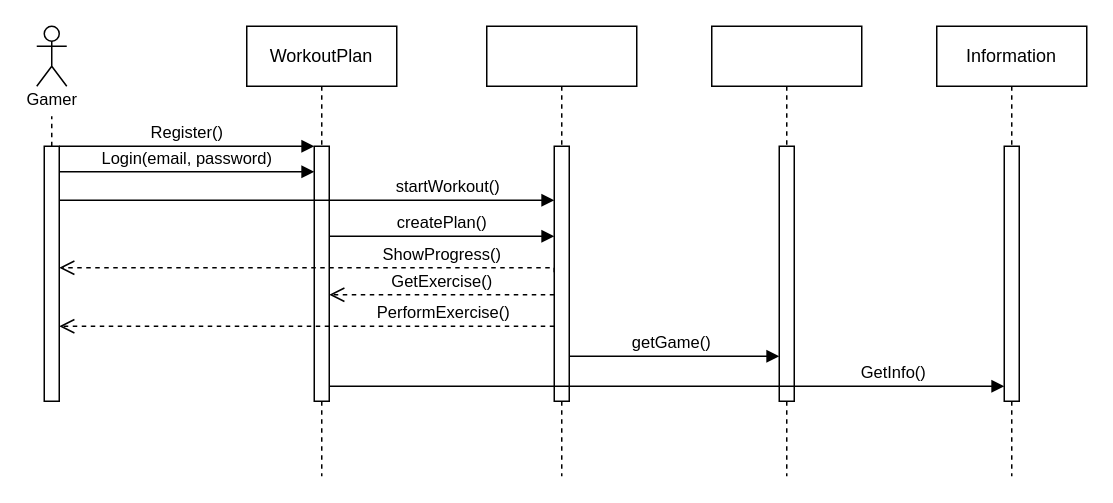
Some shapes in this 1113 by 503 pixel diagram are drawn without their labels. Here are the shapes that lost their labels. From the top down, the box of each, then its label:
(485, 25, 637, 476): Exercise
(710, 25, 862, 476): Game
